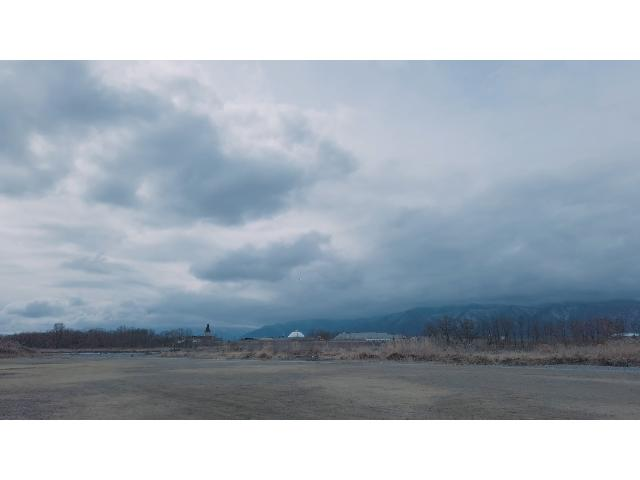Anti-Drone: (294, 276, 304, 284)
